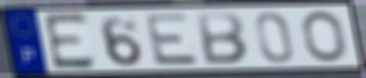0: (254, 11, 296, 65)
6: (98, 14, 145, 67)
B: (195, 11, 250, 65)
E: (41, 11, 98, 72), (143, 12, 203, 67)
O: (300, 9, 349, 64)
